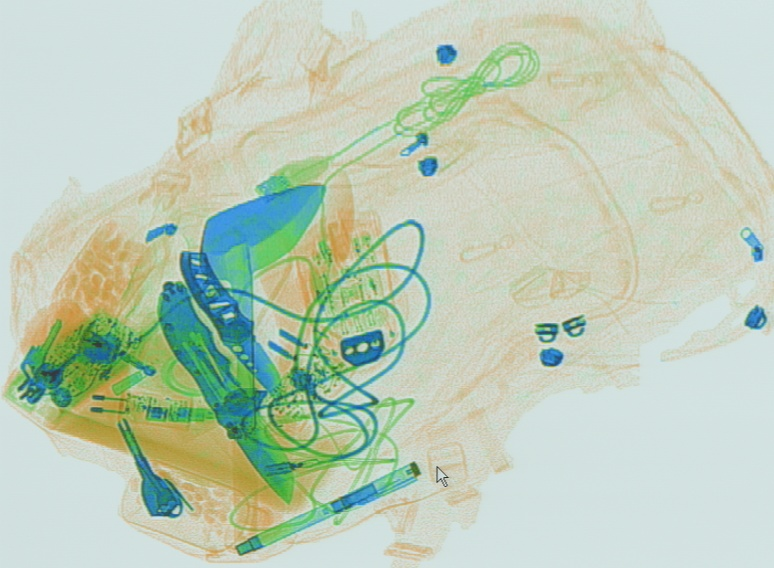knife: (155, 280, 296, 503), (178, 248, 289, 407)
